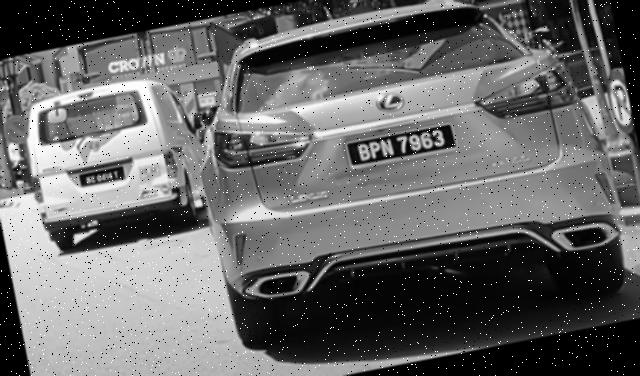License_Plate: (343, 120, 459, 172), (83, 170, 124, 187)
car: (173, 1, 638, 368), (16, 68, 218, 255)
